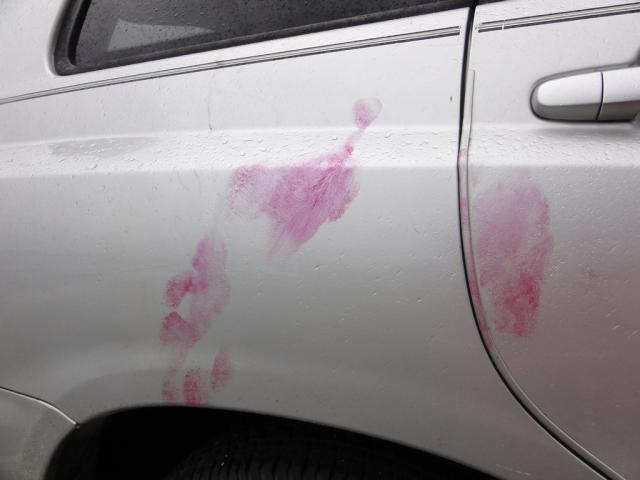Door-handle: (530, 62, 640, 125)
